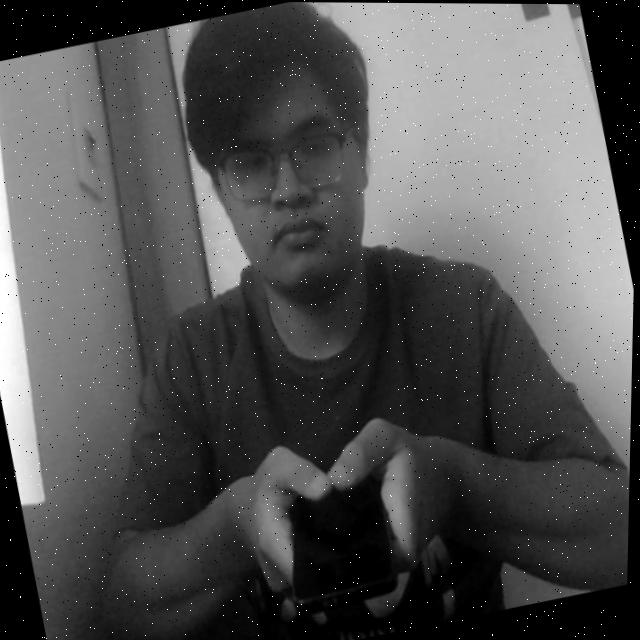phone: (248, 430, 426, 628)
